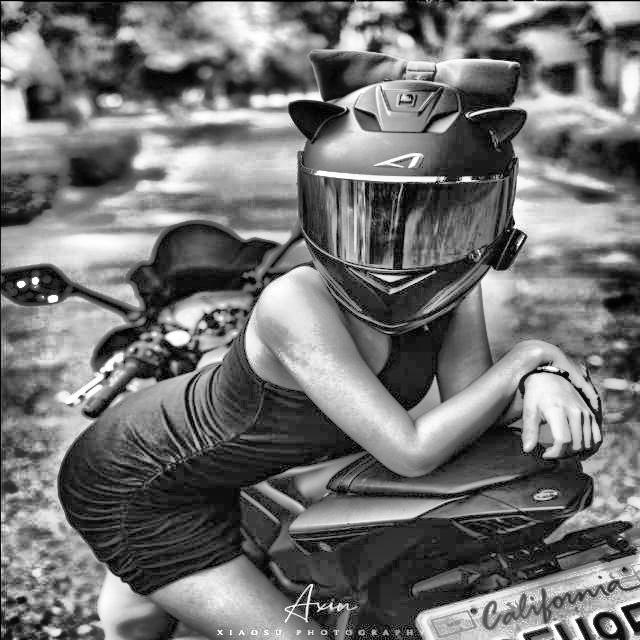Helmet: (276, 77, 534, 340)
